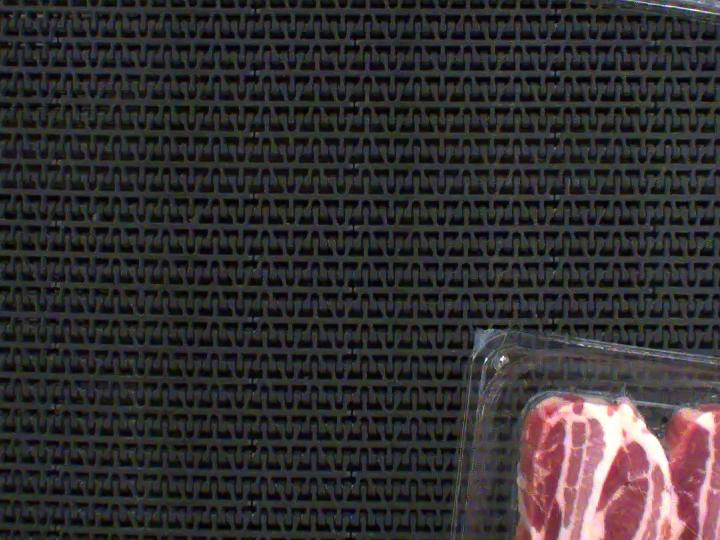unsealed: (515, 383, 720, 509)
